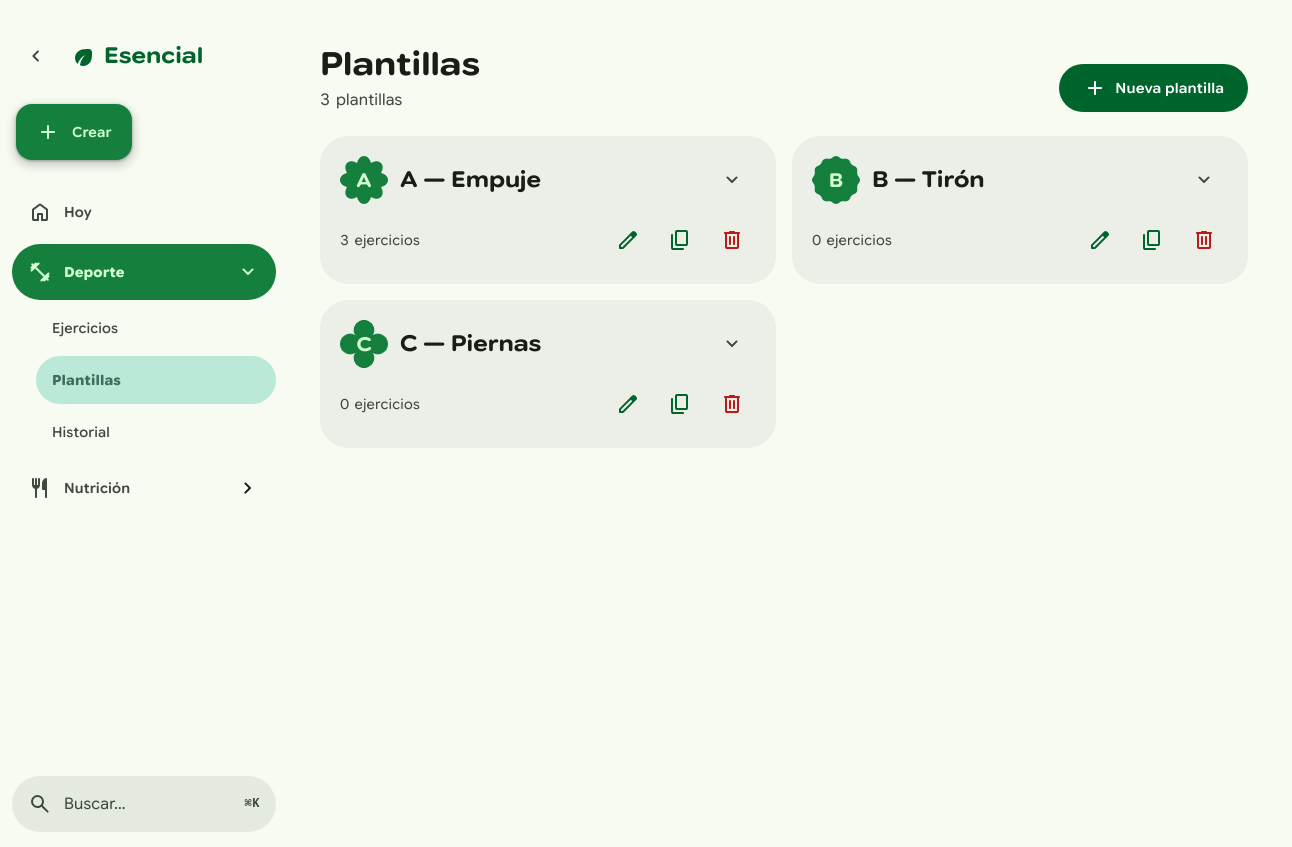
Test: exercise picker › Cancelar vuelve a la lista y descarta el borrador
Check: the text "B — Tirón" is shown, box [872, 166, 984, 193]
Click the 1st button named "Editar" at x=628, y=240, box [604, 216, 652, 264]
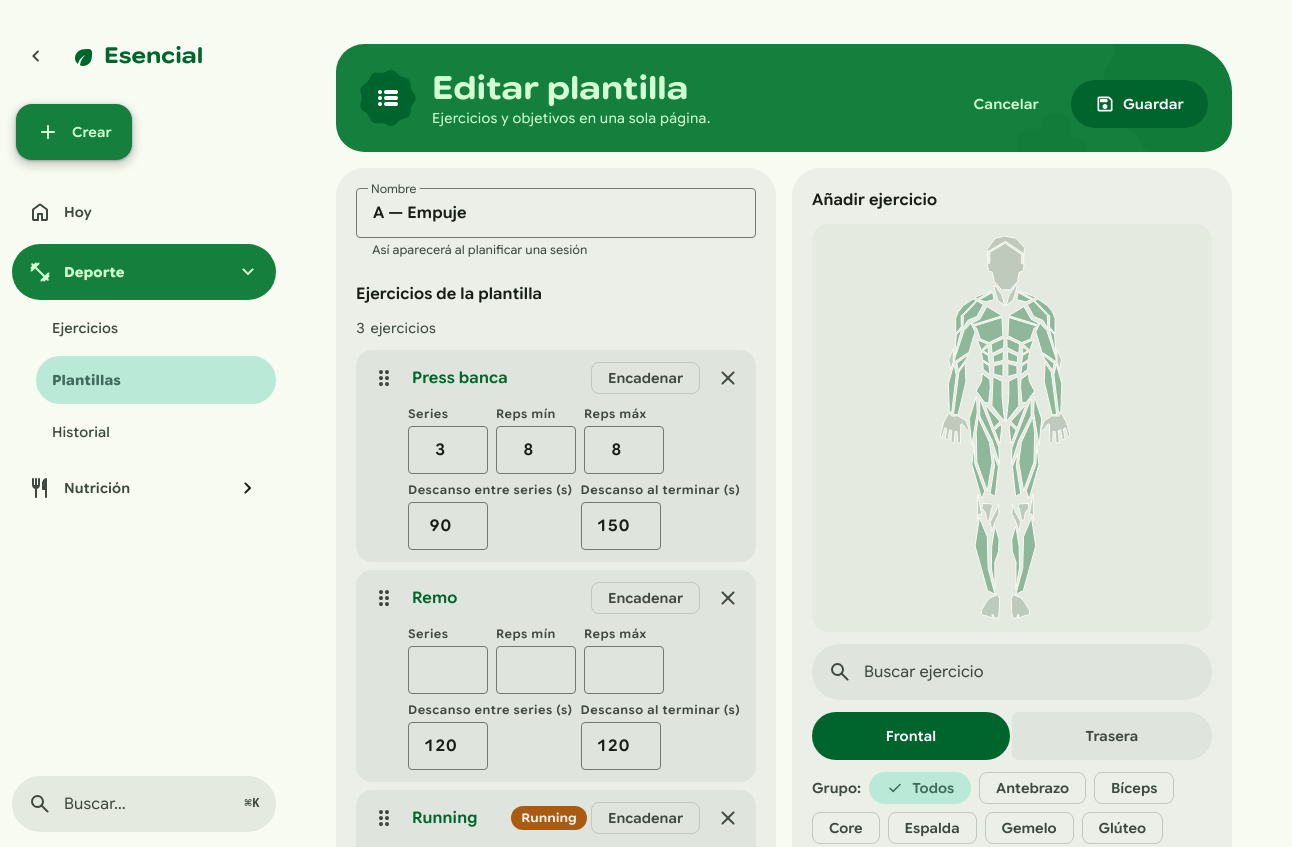
Check: the field labelled "Nombre" is shown
Replace the text in the field labelled "Nombre" with "basura" at x=556, y=213, box [356, 188, 756, 238]
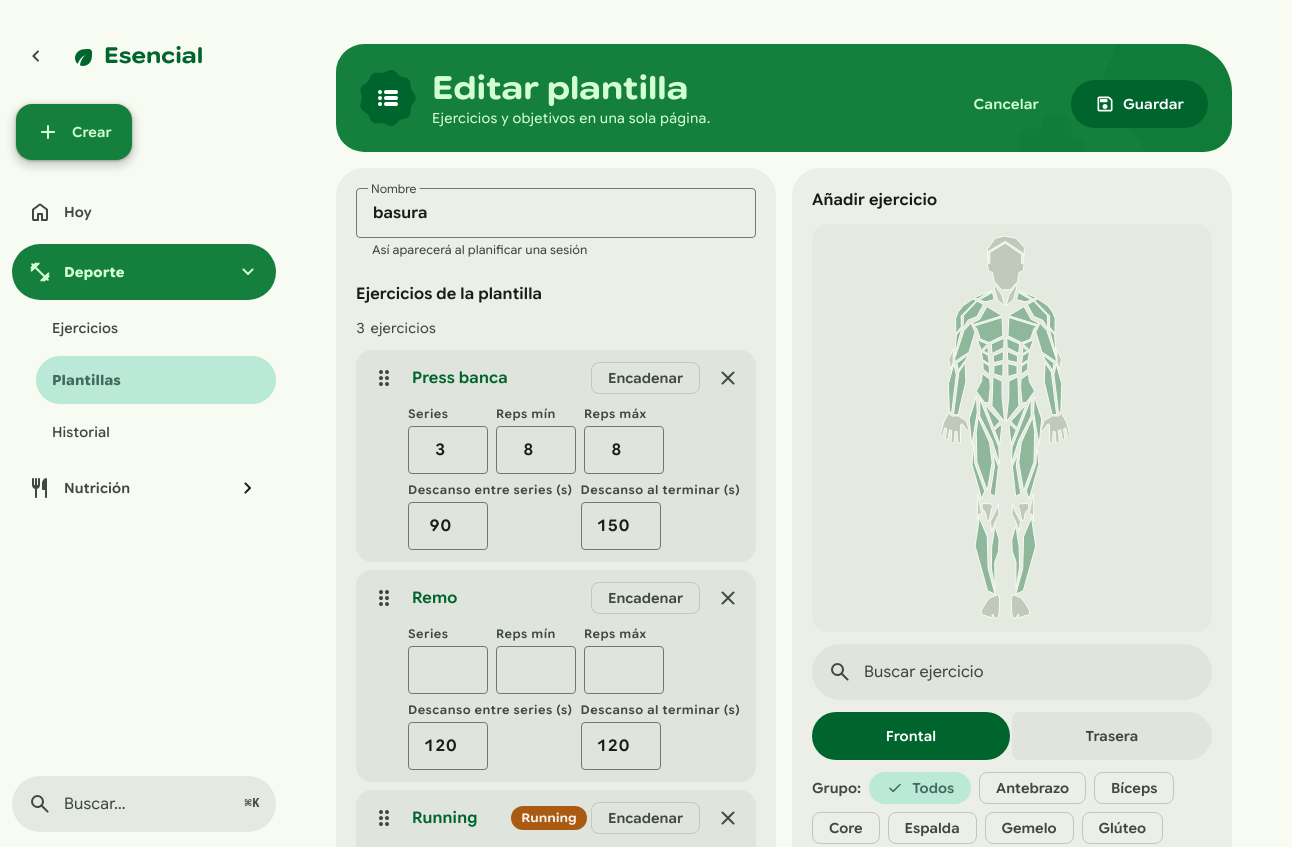
Click the button "Cancelar" at x=1006, y=104, box [950, 80, 1063, 128]
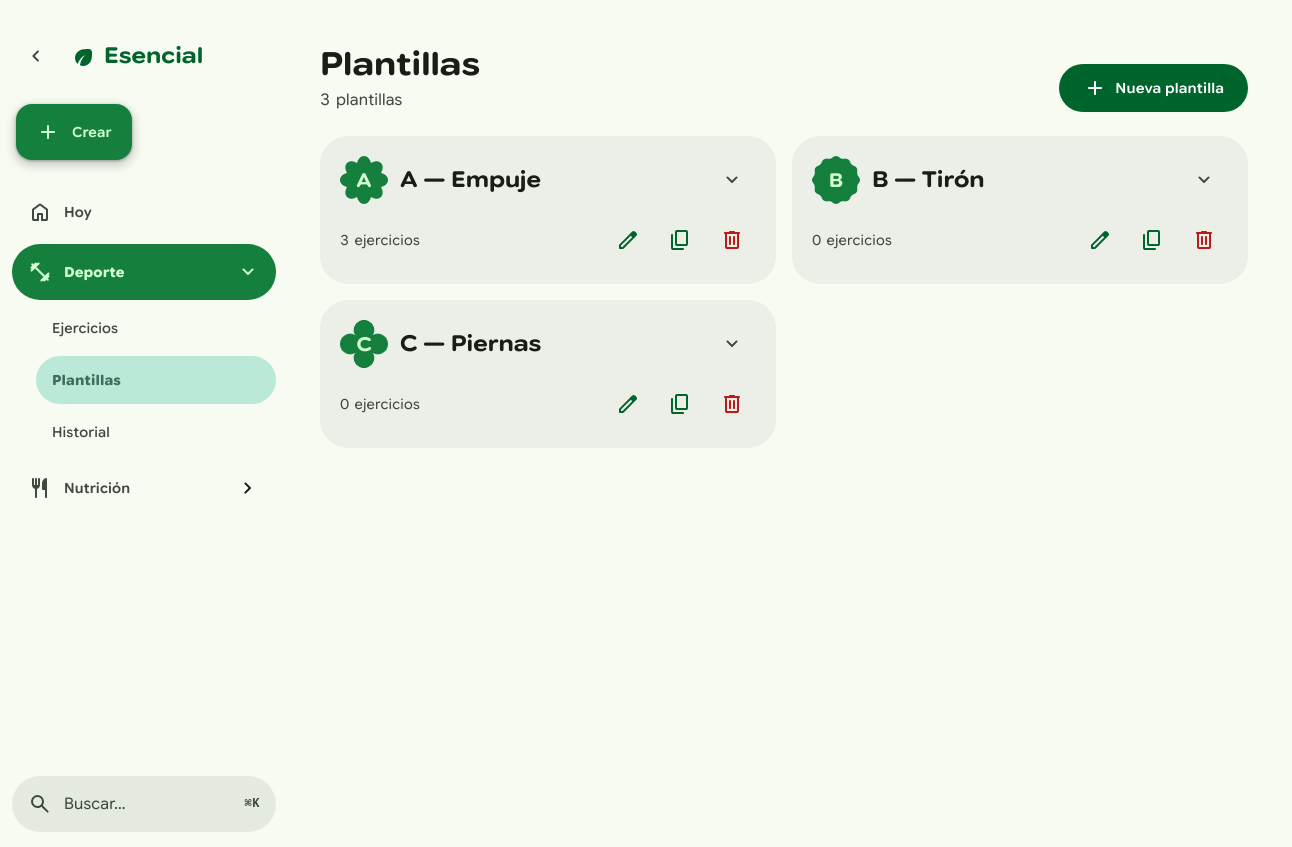
Check: the heading "Plantillas" is shown, box [320, 44, 480, 84]
